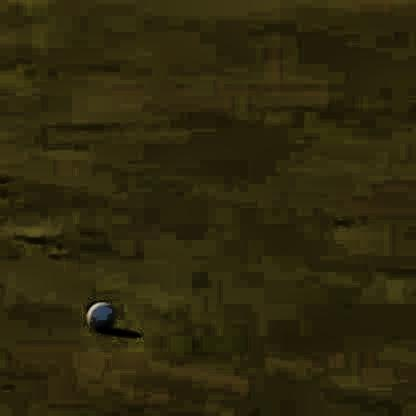golfball: (82, 294, 115, 331)
